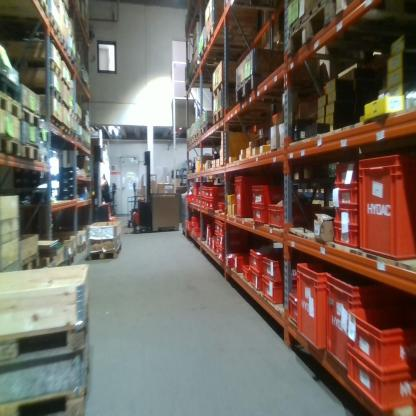pallet: (0, 315, 87, 368), (283, 1, 332, 59), (1, 387, 86, 415), (1, 55, 61, 82), (8, 16, 60, 47), (235, 72, 272, 104), (19, 86, 62, 106), (90, 241, 122, 261), (17, 251, 41, 277), (46, 31, 70, 57), (0, 135, 23, 162), (19, 99, 39, 130), (2, 71, 20, 103), (1, 94, 21, 122), (203, 26, 224, 52), (211, 81, 234, 102), (29, 117, 61, 132), (61, 38, 78, 66), (22, 144, 42, 167), (334, 1, 369, 14), (214, 106, 235, 125), (61, 253, 74, 274), (196, 45, 205, 69), (201, 123, 213, 140), (60, 123, 70, 139), (59, 98, 70, 112), (59, 78, 69, 91), (190, 134, 196, 146), (196, 130, 200, 146)
pallet_truck: (128, 145, 155, 235), (95, 145, 120, 224)
small_load_carrier: (326, 272, 396, 384), (357, 154, 414, 265), (346, 303, 414, 373), (346, 347, 414, 411), (298, 262, 337, 348), (235, 176, 264, 218), (269, 204, 315, 229), (331, 160, 364, 186), (249, 186, 285, 206), (265, 256, 290, 280), (263, 278, 285, 305), (331, 186, 359, 207), (334, 223, 358, 246), (249, 203, 270, 224), (334, 206, 359, 223), (249, 265, 265, 291), (233, 253, 250, 277), (250, 248, 266, 273), (289, 293, 300, 327), (241, 264, 252, 280), (410, 380, 415, 413), (207, 186, 222, 197), (225, 253, 235, 267), (218, 201, 231, 211), (209, 198, 219, 209), (192, 226, 201, 238), (192, 180, 199, 193), (219, 236, 227, 246), (220, 222, 225, 235), (219, 252, 227, 260), (216, 246, 221, 258), (216, 232, 220, 242), (217, 221, 220, 231)
